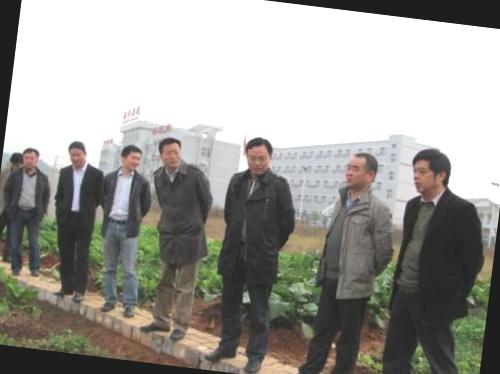no_helmet: (404, 143, 454, 201), (340, 148, 382, 194), (238, 132, 278, 178), (153, 132, 186, 172), (116, 140, 145, 174), (64, 138, 92, 168), (20, 147, 41, 169), (6, 150, 24, 175)
